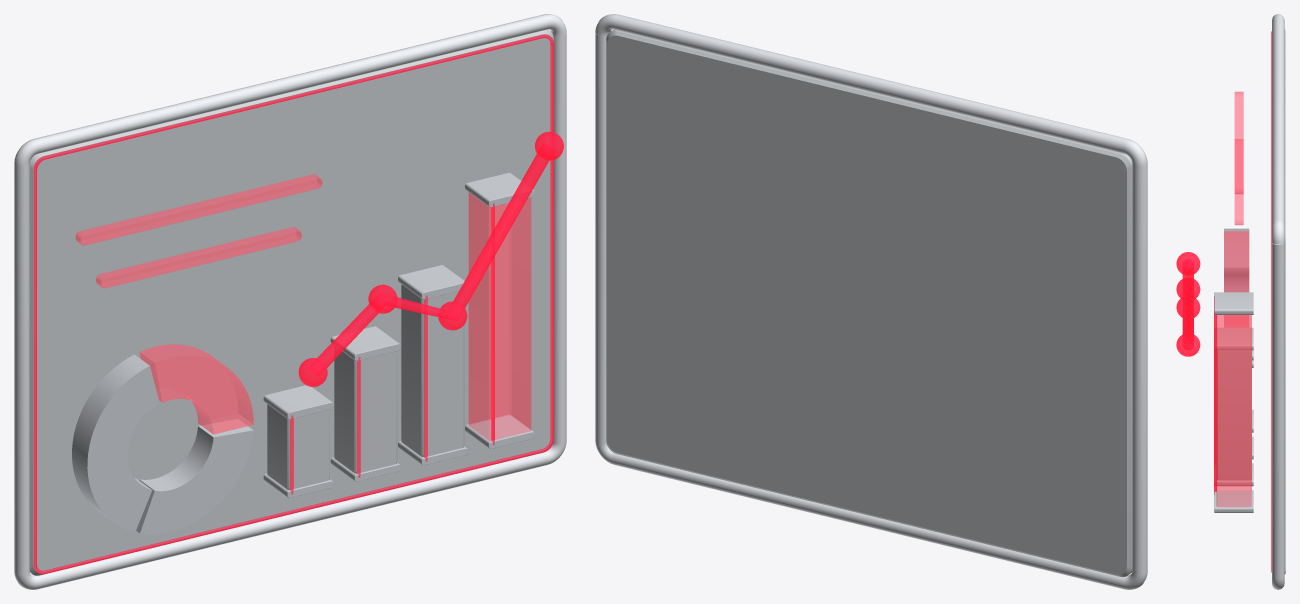
Rendered from 06-management-analytics.glb.
3 renders of one model, left to right at view 1: azimuth 30°, elevation 25°; view 2: azimuth 150°, elevation 25°; view 3: azimuth 270°, elevation 25°, orthographic. The views are drawn at different scales.
Visible parts, largest first — view 1: BC clear optical glass, BC polished silver metal, BC ruby optical glass, BC satin silver metal, BC neon red glass edge; view 2: BC clear optical glass, BC polished silver metal; view 3: BC ruby optical glass, BC polished silver metal, BC clear optical glass, BC satin silver metal, BC neon red glass edge.
Boxes of the visible parts, x1=… form: BC clear optical glass: x1=29, y1=29, x2=553, y2=575; BC polished silver metal: x1=14, y1=14, x2=566, y2=589; BC ruby optical glass: x1=75, y1=174, x2=531, y2=440; BC satin silver metal: x1=72, y1=172, x2=534, y2=534; BC neon red glass edge: x1=33, y1=34, x2=563, y2=574; BC clear optical glass: x1=606, y1=29, x2=1132, y2=577; BC polished silver metal: x1=595, y1=14, x2=1147, y2=589; BC ruby optical glass: x1=1216, y1=91, x2=1251, y2=506; BC polished silver metal: x1=1272, y1=14, x2=1284, y2=589; BC clear optical glass: x1=1217, y1=29, x2=1285, y2=574; BC satin silver metal: x1=1214, y1=228, x2=1253, y2=512; BC neon red glass edge: x1=1176, y1=31, x2=1271, y2=572.
Size of the model in its own units: 2.05 by 1.6 by 0.4295.
